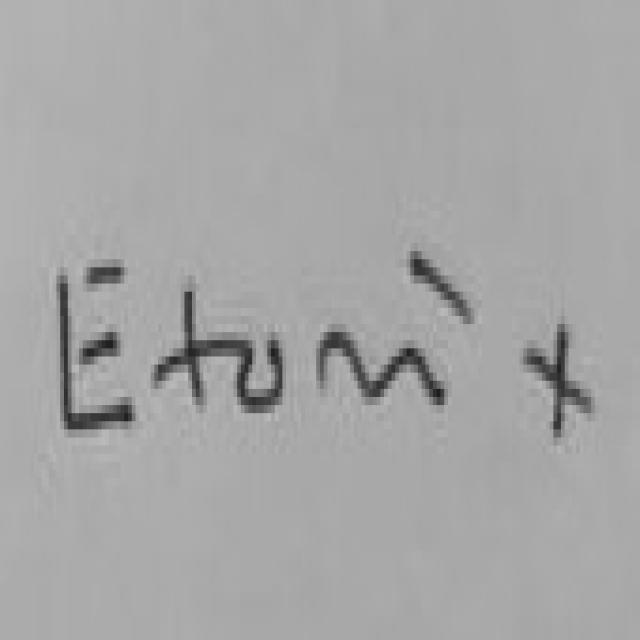E: (41, 224, 147, 468)
i: (405, 218, 477, 432)
o: (230, 301, 292, 440)
r: (302, 304, 394, 424)
t: (156, 253, 218, 436)
x: (512, 277, 606, 495)
